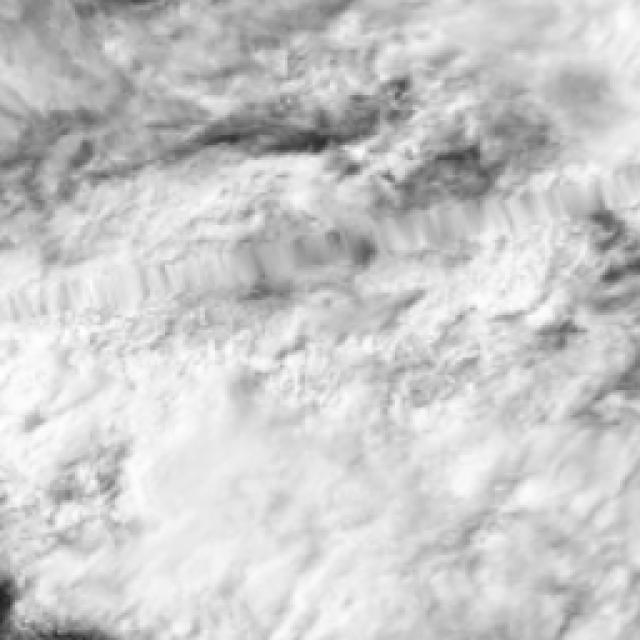CB: (155, 425, 640, 640)
